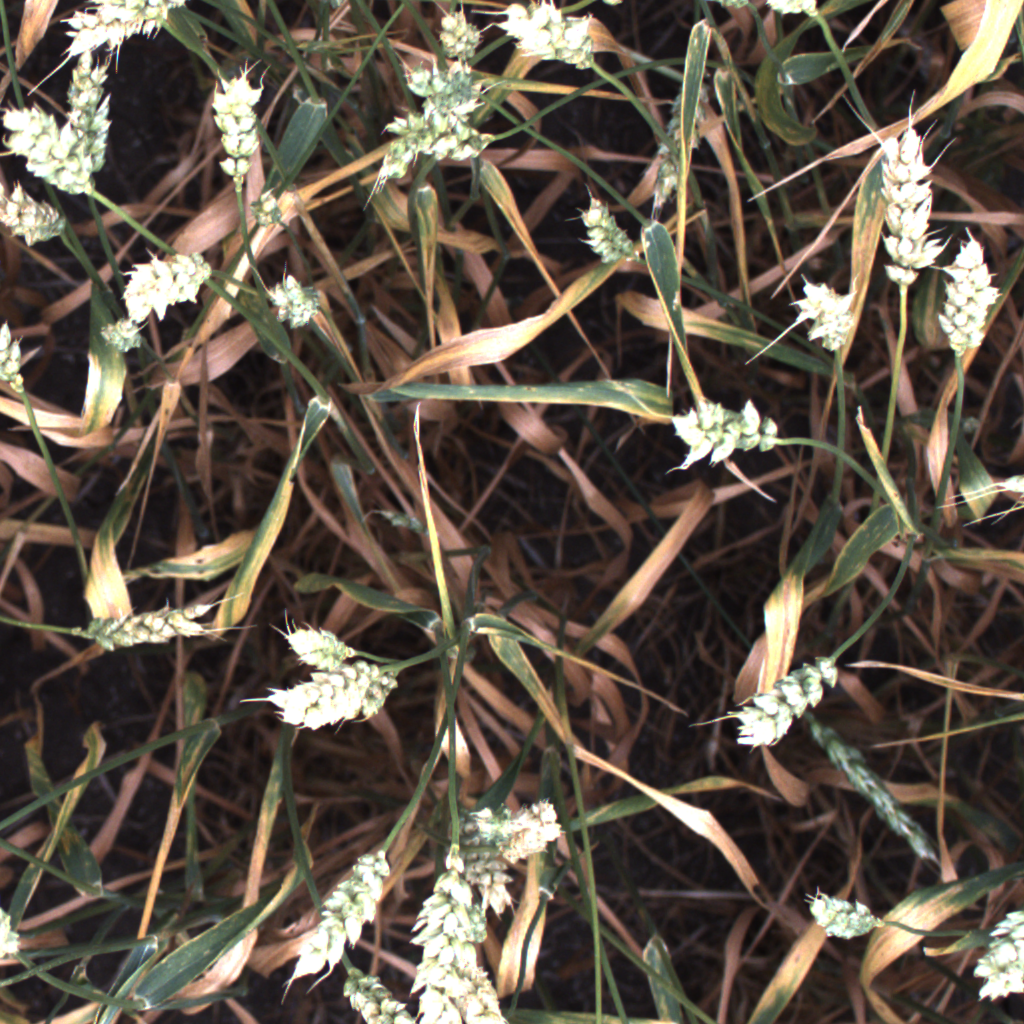wheat_head: (789, 700, 945, 873), (282, 842, 396, 988), (417, 812, 499, 995), (868, 117, 949, 295), (371, 70, 490, 189), (70, 587, 239, 665), (257, 651, 406, 739), (0, 94, 109, 210), (731, 655, 849, 755), (930, 219, 1004, 364), (663, 386, 779, 475), (495, 0, 616, 83), (109, 237, 225, 320), (40, 0, 202, 57), (60, 50, 123, 194), (400, 943, 513, 1023), (566, 190, 655, 276), (791, 262, 866, 363), (211, 60, 267, 193), (964, 897, 1024, 1012), (332, 954, 430, 1024), (385, 108, 501, 167), (461, 822, 525, 917), (473, 797, 566, 857), (655, 81, 701, 200), (274, 617, 369, 673), (263, 271, 333, 337), (0, 182, 66, 250), (811, 883, 876, 950), (426, 7, 491, 72), (387, 56, 468, 101), (0, 315, 29, 404), (0, 897, 29, 976), (979, 467, 1024, 514), (754, 0, 837, 25), (99, 316, 151, 353), (246, 190, 285, 232)
